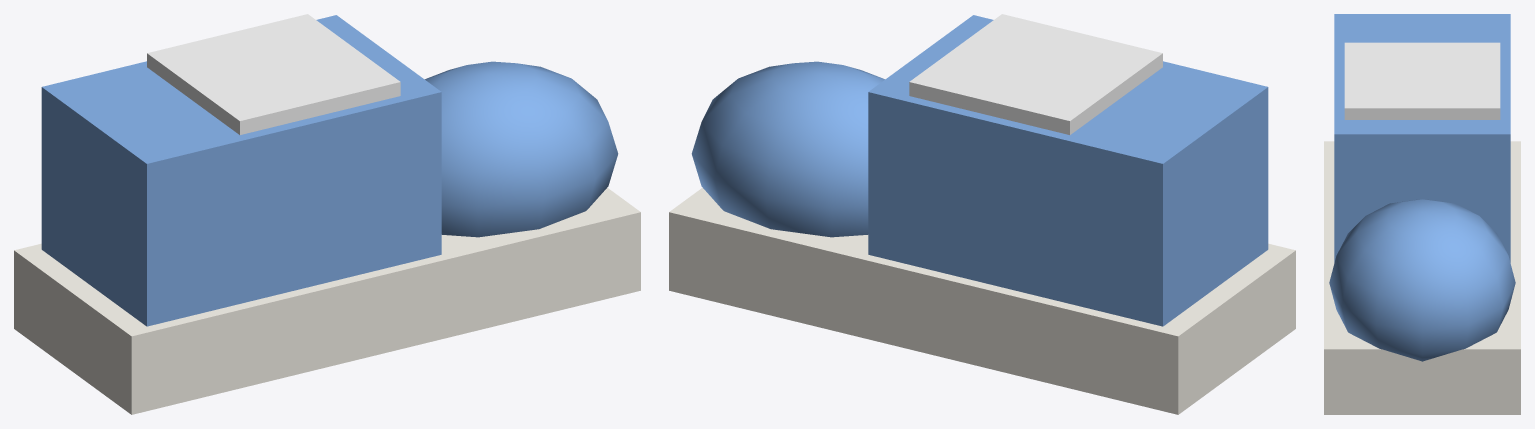
File: zapato.glb
The picture shows the model from 3 angles, left to right: view 1: azimuth 30°, elevation 25°; view 2: azimuth 150°, elevation 25°; view 3: azimuth 270°, elevation 25°; orthographic projection. The views are drawn at different scales.
Parts seen in each view (by area): view 1: empeine, suela, puntera, cordones; view 2: empeine, suela, puntera, cordones; view 3: empeine, puntera, suela, cordones.
Part boxes in pixels (x1=…): empeine: x1=41, y1=15, x2=441, y2=326; suela: x1=14, y1=187, x2=640, y2=414; puntera: x1=425, y1=61, x2=618, y2=237; cordones: x1=147, y1=14, x2=400, y2=134; empeine: x1=868, y1=15, x2=1268, y2=326; suela: x1=669, y1=187, x2=1295, y2=414; puntera: x1=691, y1=61, x2=884, y2=237; cordones: x1=909, y1=14, x2=1162, y2=134; empeine: x1=1334, y1=14, x2=1510, y2=262; puntera: x1=1329, y1=199, x2=1515, y2=361; suela: x1=1324, y1=141, x2=1520, y2=414; cordones: x1=1344, y1=42, x2=1500, y2=119.
Bounding box in the file's own units: 0.995 × 0.455 × 0.38.
